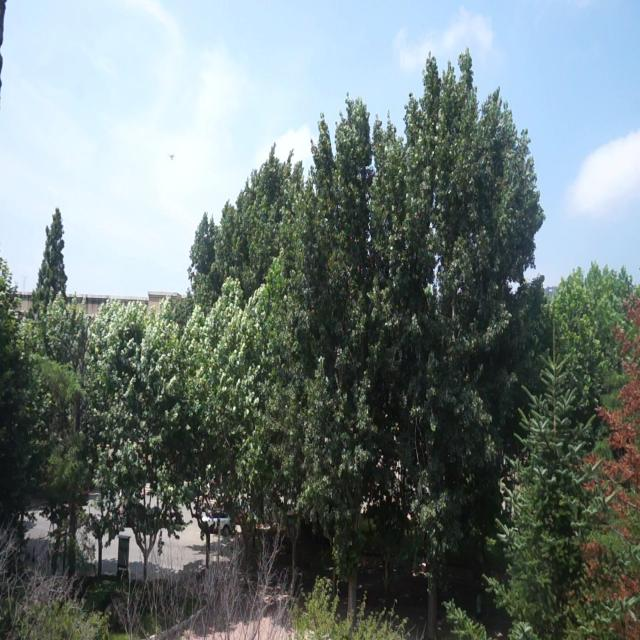drone: (164, 146, 180, 168)
